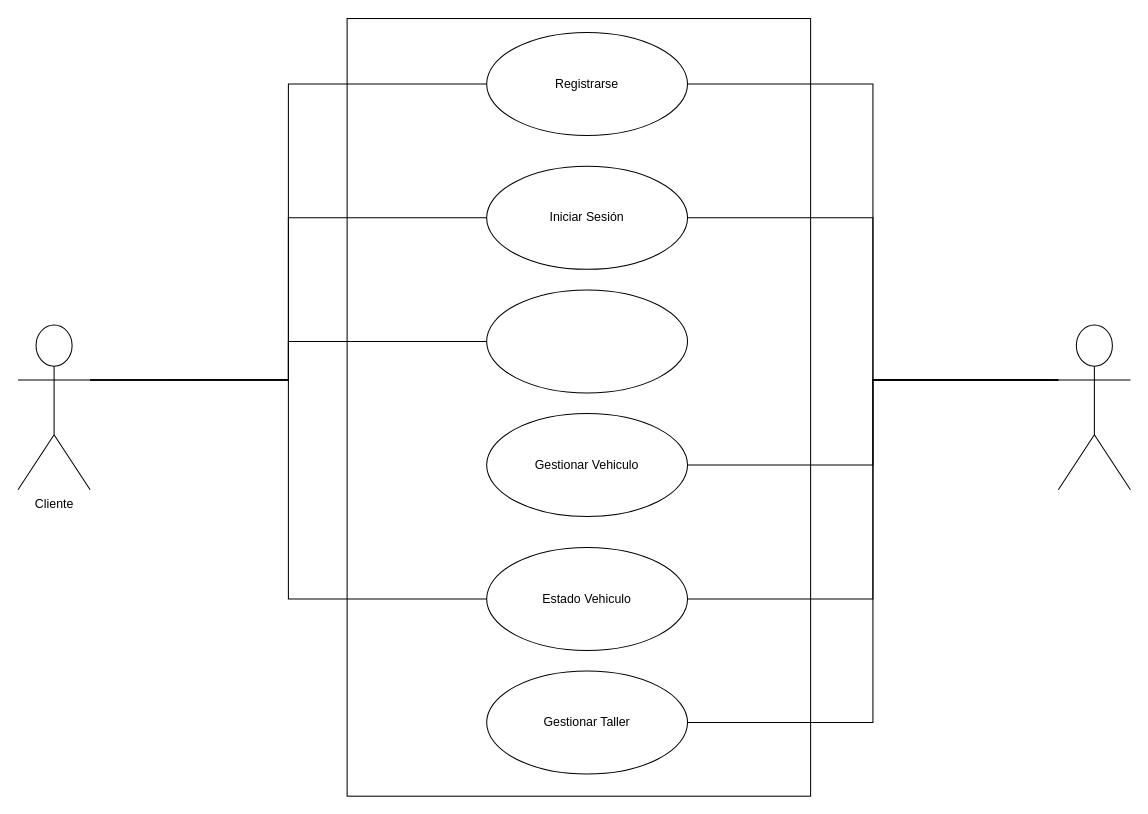
Some shapes in this 1148 by 814 pixel diagram are drawn without their labels. Here are the shapes that lost their labels. From the top down, the box of each, then its label:
(486, 289, 688, 393): Traer Vehiculo
(1057, 324, 1130, 490): Taller
